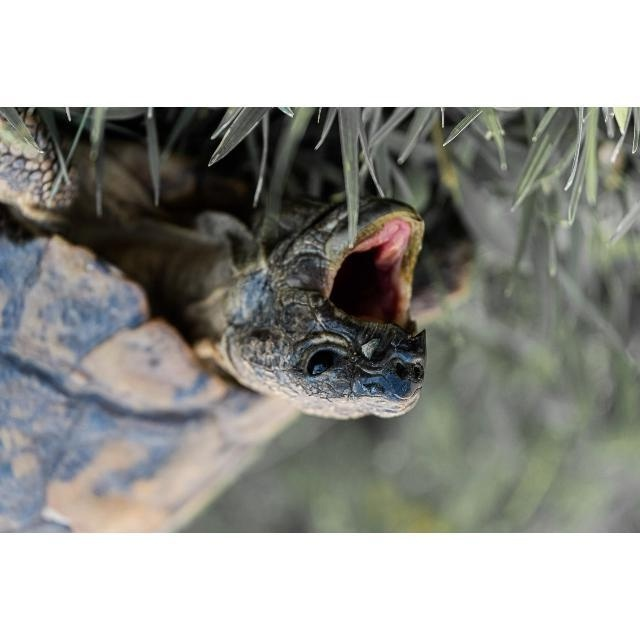turtle: (1, 112, 478, 530)
